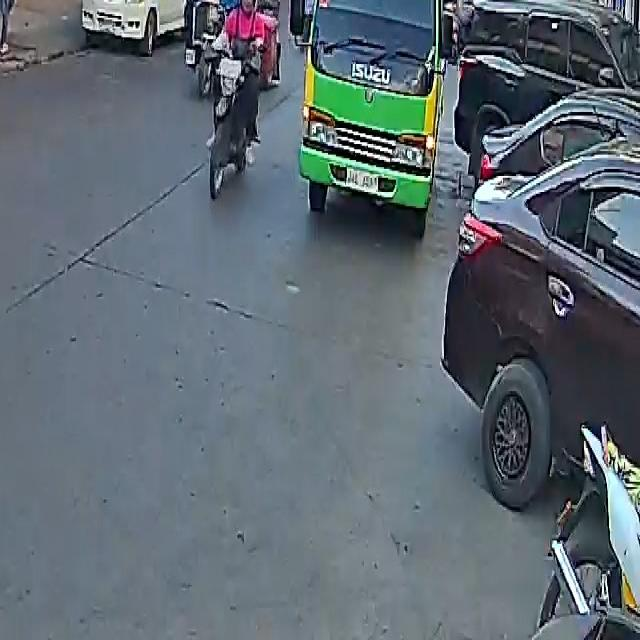car: (444, 146, 640, 512), (452, 0, 639, 185), (81, 0, 202, 55)
